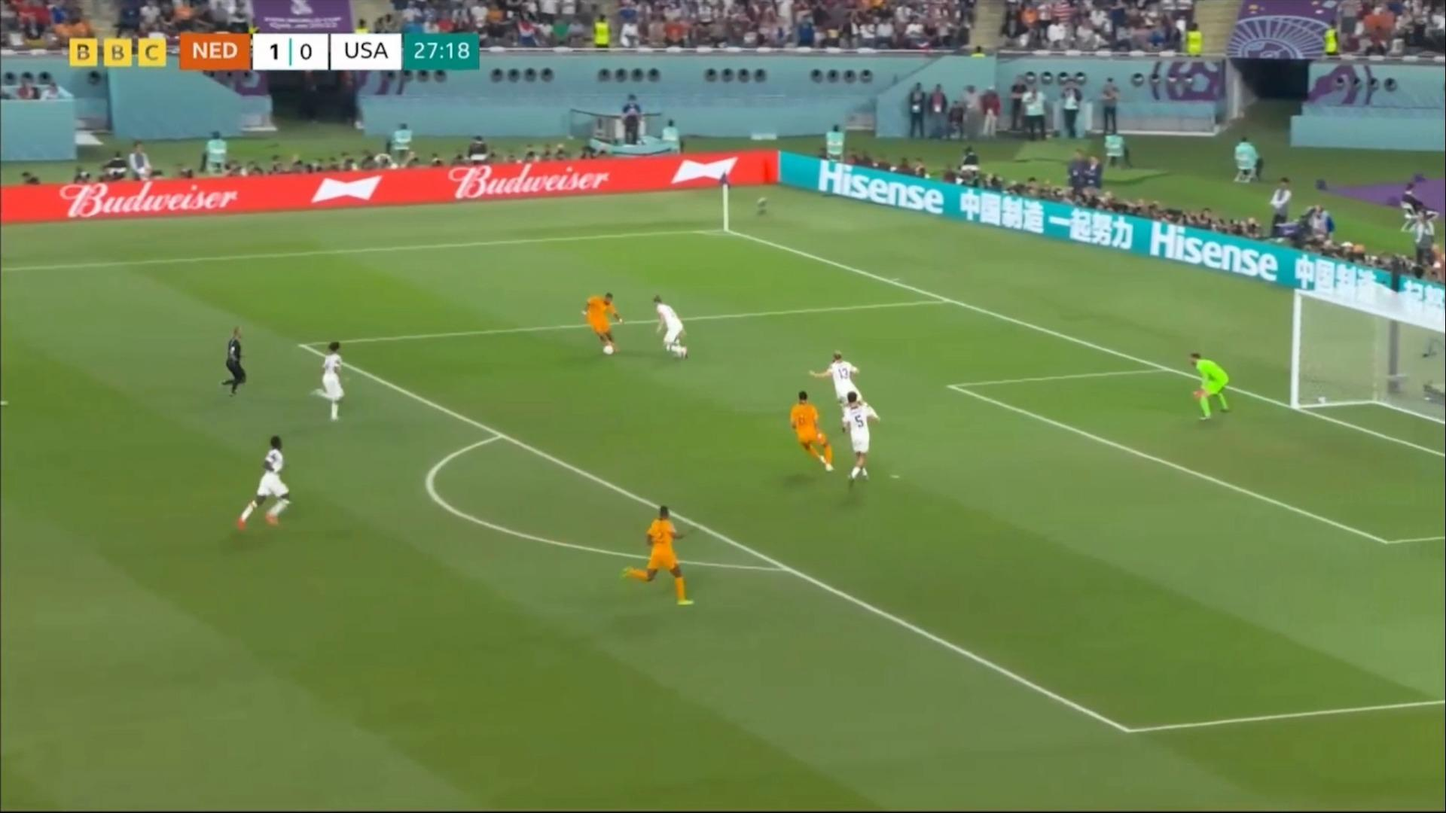Ball: (603, 344, 615, 357)
Player: (622, 506, 689, 611), (237, 434, 298, 535), (788, 394, 843, 479), (309, 337, 358, 429), (838, 397, 884, 487), (802, 347, 862, 409), (644, 291, 690, 365), (578, 287, 621, 363), (1188, 352, 1230, 420)
Ref: (215, 323, 250, 399)
